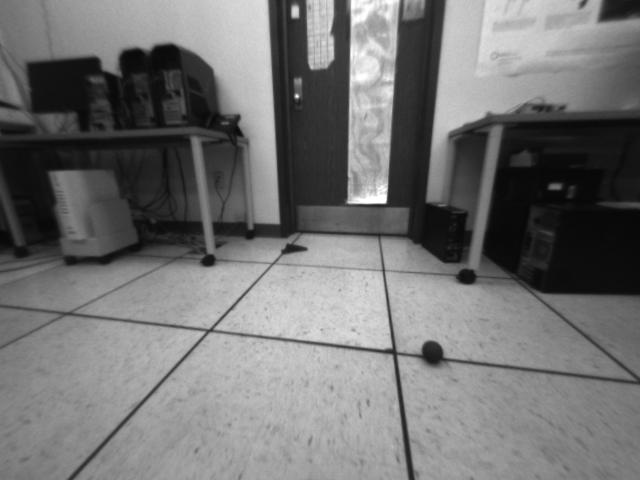dogtoy: (415, 335, 449, 368)
